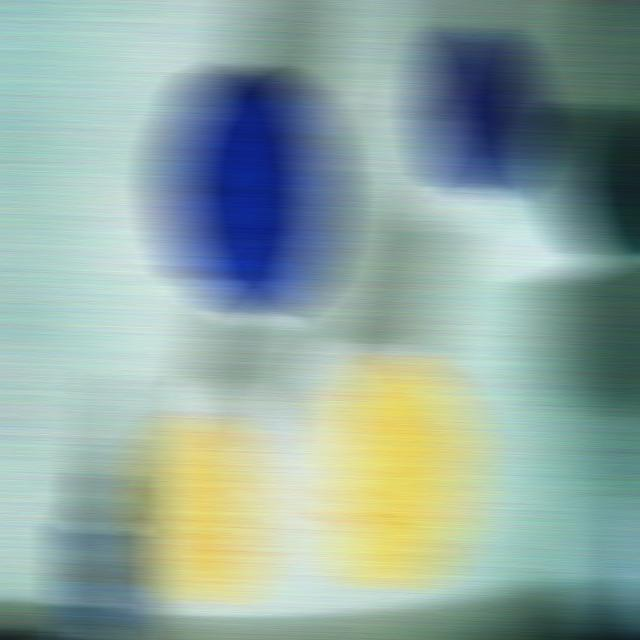blue: (162, 63, 337, 323), (429, 27, 536, 198)
green: (552, 105, 639, 255)
yellow: (319, 353, 474, 589), (140, 413, 267, 604)
